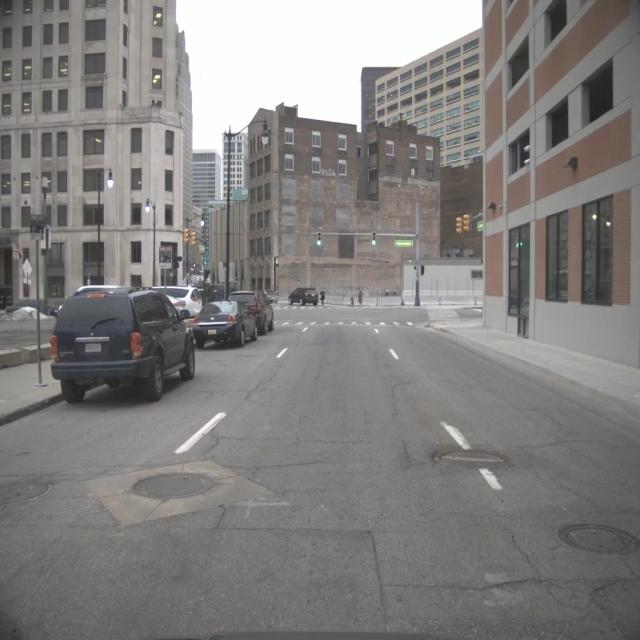humans: (320, 287, 326, 306), (358, 287, 363, 308)
